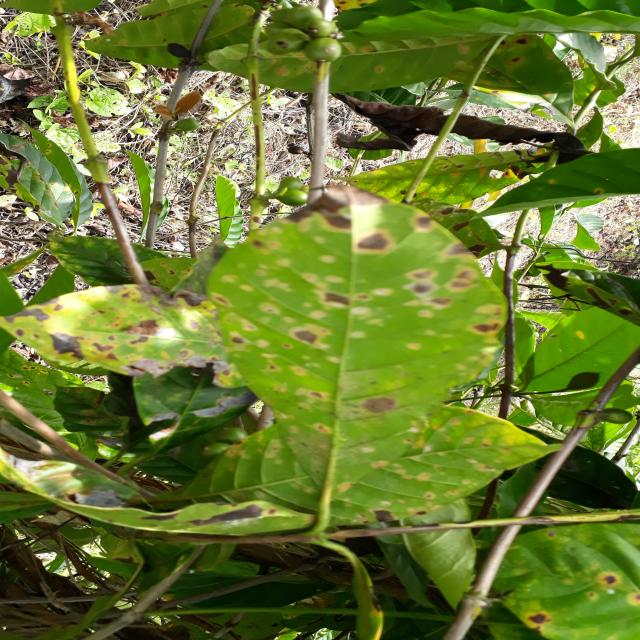Enfermedad-Roya: (207, 185, 501, 498)
